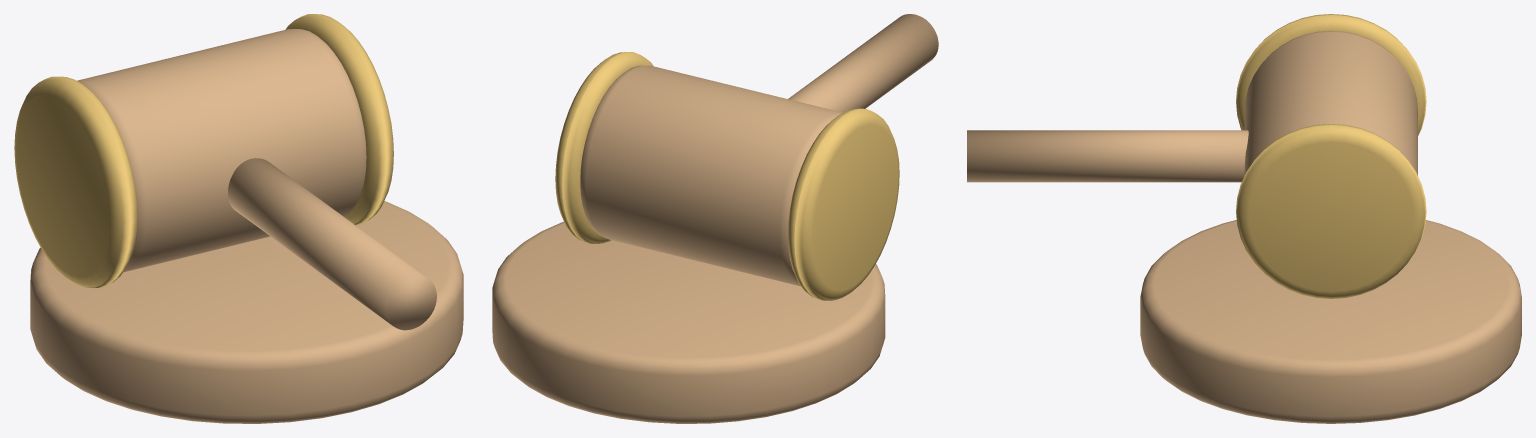
File: activities--judge.glb
3 views of the same model, side by side, from view 1: azimuth 30°, elevation 25°; view 2: azimuth 150°, elevation 25°; view 3: azimuth 270°, elevation 25° (orthographic). The views are drawn at different scales.
Parts seen in each view (by area): view 1: activities--judge; view 2: activities--judge; view 3: activities--judge.
Boxes of the visible parts, bbox=[...] form: activities--judge: bbox=[14, 14, 463, 423]; activities--judge: bbox=[492, 14, 938, 423]; activities--judge: bbox=[967, 14, 1521, 423].
Size of the model in its own units: 0.4399 by 0.3301 by 0.6399.
